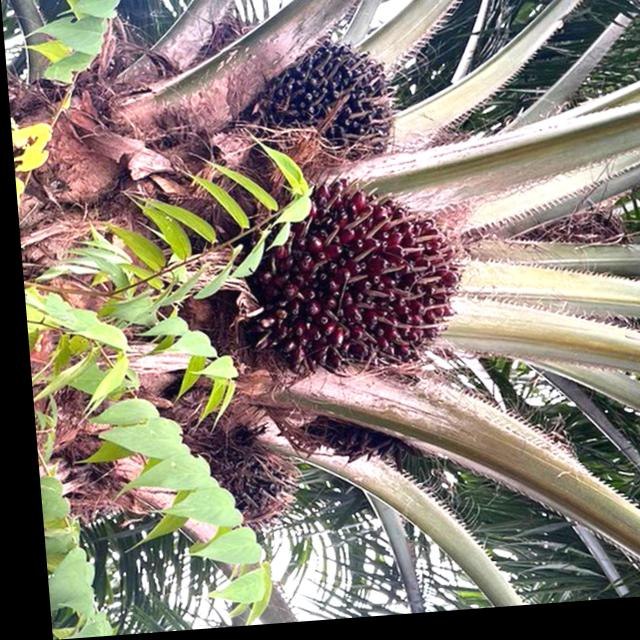ripe: (229, 167, 472, 393), (256, 26, 403, 180)
